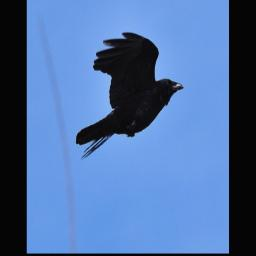Crow: (67, 16, 188, 164)
